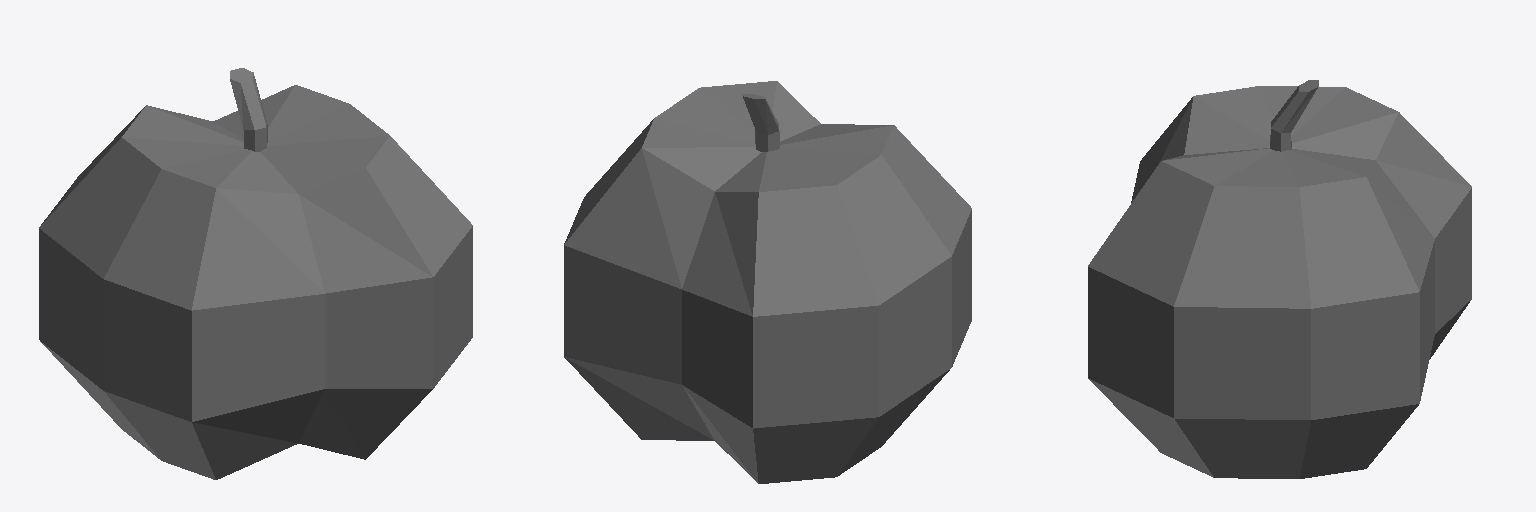
Rendered from Apple.obj.
The picture shows the model from 3 angles: view 1: azimuth 30°, elevation 25°; view 2: azimuth 150°, elevation 25°; view 3: azimuth 270°, elevation 25°; orthographic projection.
Visible parts, largest first — view 1: Cylinder002; view 2: Cylinder002; view 3: Cylinder002.
Boxes of the visible parts, box(x1,y1,x2,y2) form: Cylinder002: box(39, 68, 472, 479); Cylinder002: box(564, 81, 971, 483); Cylinder002: box(1088, 80, 1471, 478).
Bounding box in the file's own units: 322 × 316 × 319.